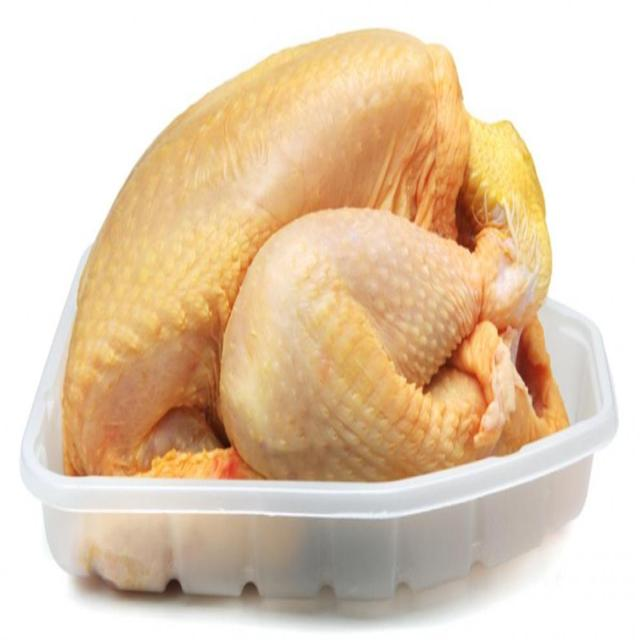pollo: (44, 31, 589, 521)
